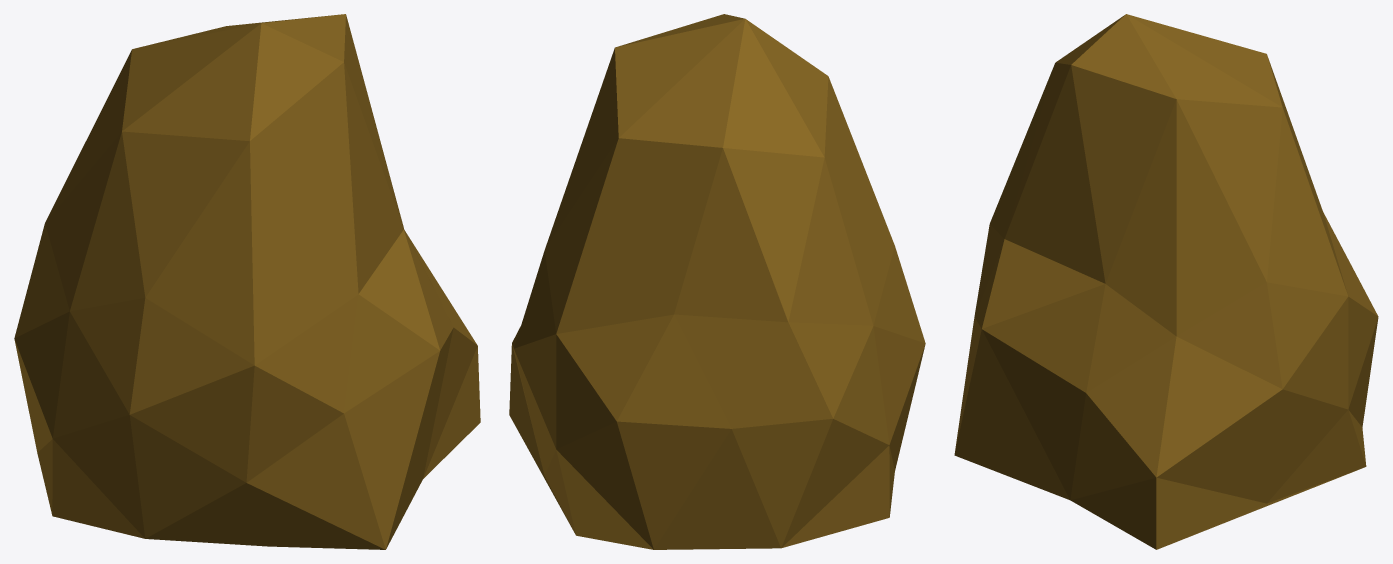
3 renders of one model, left to right at view 1: azimuth 30°, elevation 25°; view 2: azimuth 150°, elevation 25°; view 3: azimuth 270°, elevation 25°, orthographic. The views are drawn at different scales.
Visible parts, largest first — view 1: GeoSphere009; view 2: GeoSphere009; view 3: GeoSphere009.
Boxes of the visible parts, <box> form: GeoSphere009: <box>14,14,480,549</box>; GeoSphere009: <box>509,14,925,549</box>; GeoSphere009: <box>954,14,1378,549</box>.
Size of the model in its own units: 23.51 by 25.33 by 22.53.
